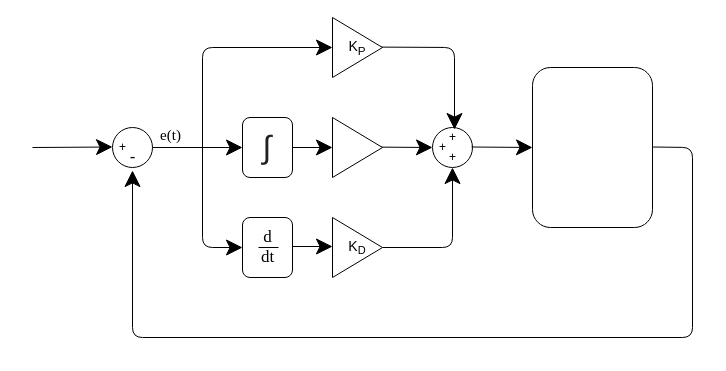
This 726x371 diagram has some shape labels left out. The centre of each missing label's shape, as x and y in pixels:
K I: [357,147]
Plant: [592,147]
